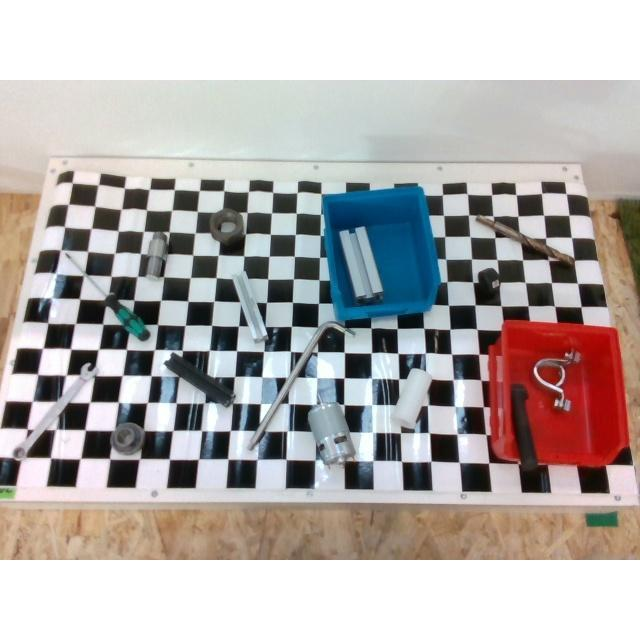AllenKey: (246, 320, 354, 450)
Axis2: (144, 232, 168, 280)
Bearing2: (112, 423, 144, 455)
Drill: (476, 214, 574, 266)
F20_20_B: (164, 353, 234, 405)
F20_20_G: (232, 270, 268, 342)
Housing: (532, 352, 582, 412)
M20: (474, 268, 500, 300)
M20_100: (510, 384, 538, 472)
M30: (209, 208, 245, 246)
Motor2: (308, 404, 356, 464)
S40_40_G: (338, 226, 382, 302)
Screwdriver: (63, 252, 149, 340)
Spacer: (392, 368, 432, 428)
Wrench: (13, 364, 95, 461)
container_box_blue: (322, 185, 440, 321)
container_box_red: (488, 320, 628, 468)
